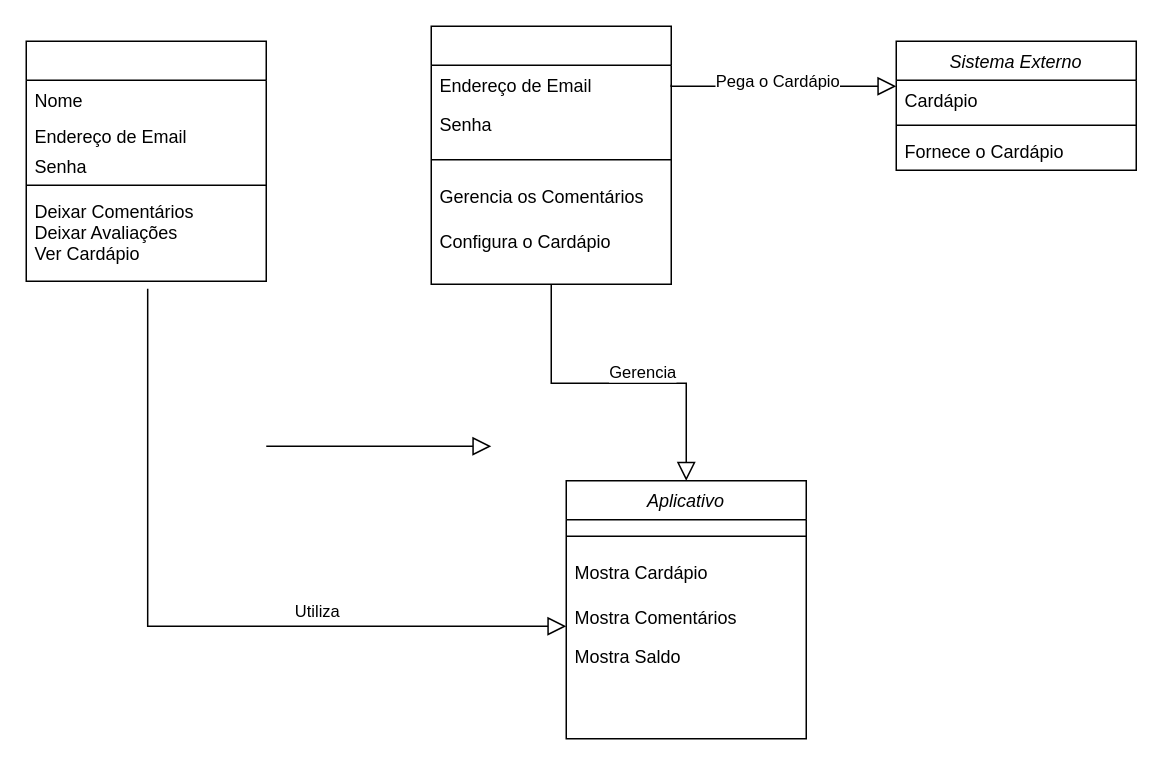
Some shapes in this 1163 by 765 pixel diagram are drawn without their labels. The shapes that lost their labels are listed below. From the top down, each one's box as (x1, y1, x2, y2) in pixels, then its label:
(25, 40, 266, 281): Usuário
(430, 25, 671, 284): Administrador
